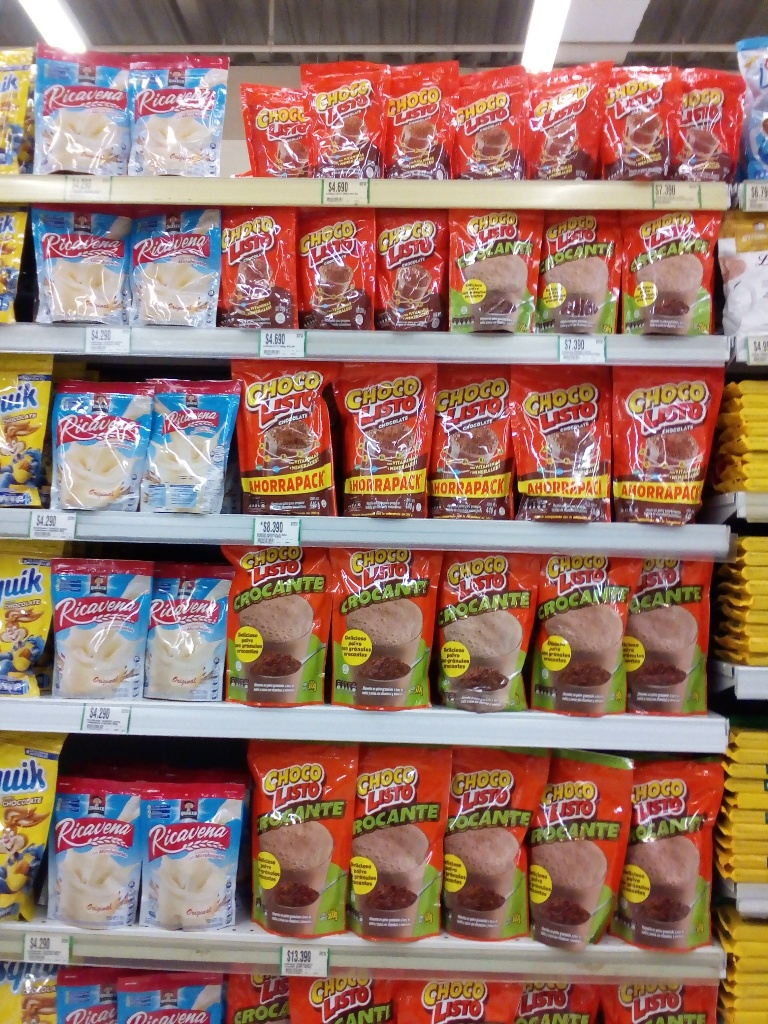COL0170102DYP25000: (449, 208, 541, 335)
COL0170102DYP50000: (246, 738, 356, 938)
COL0170103DYP44000: (228, 354, 338, 519)
COL0170303DYP20000: (0, 735, 63, 933)
